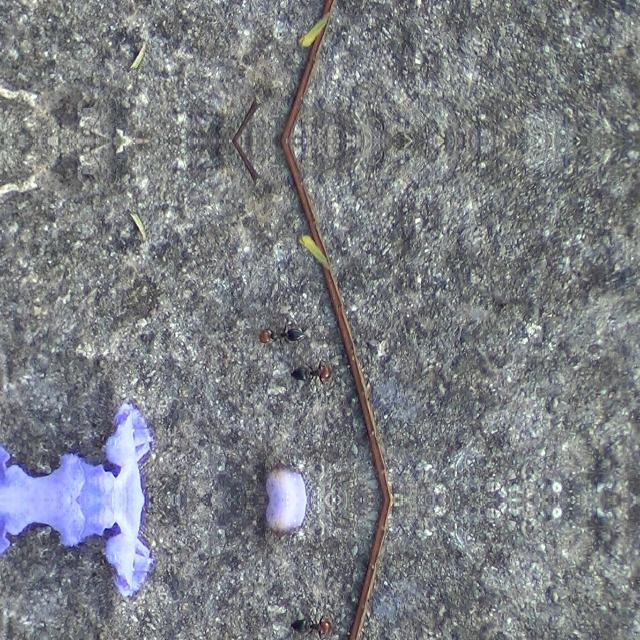Crematogaster: (254, 322, 308, 352), (292, 356, 334, 386), (291, 613, 334, 640)
